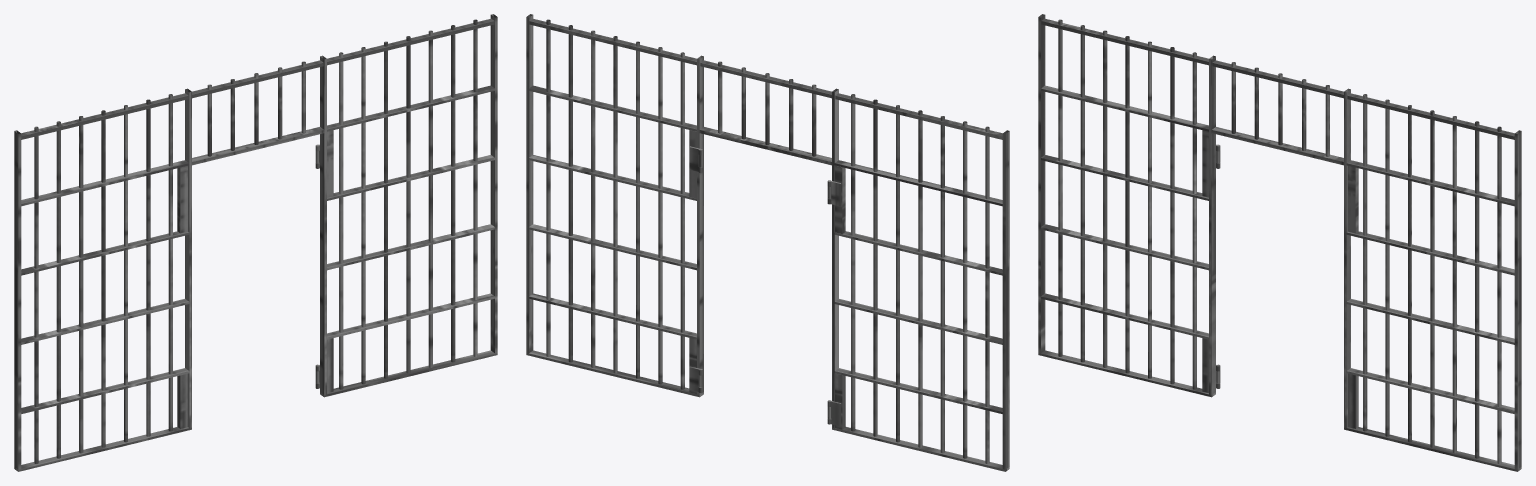
The model's file is jail_cell.glb.
3 views of the same model, side by side, from view 1: azimuth 30°, elevation 25°; view 2: azimuth 150°, elevation 25°; view 3: azimuth 330°, elevation 25° (orthographic).
Visible parts, largest first — view 1: Cell01; view 2: Cell01; view 3: Cell01.
Part boxes in pixels (x1,y1,x2,y2): Cell01: (14,14,497,471); Cell01: (526,14,1009,471); Cell01: (1038,14,1521,471).
Size of the model in its own units: 34.61 by 23.31 by 0.742.
1 material, 1 textured.
